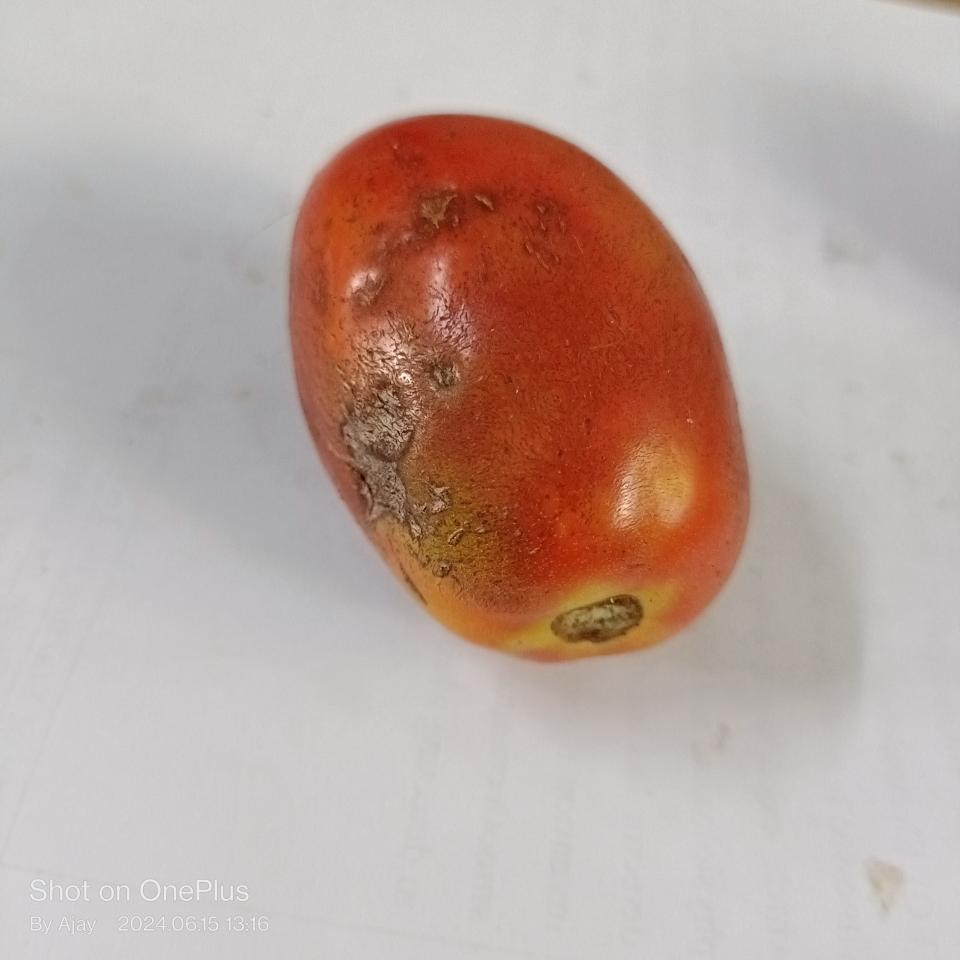Bacterial_Spot: (339, 327, 449, 518)
